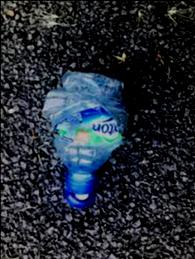Plastic: (33, 62, 134, 212)
